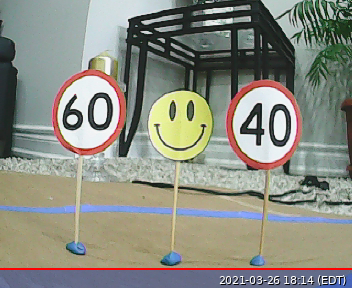Person: (147, 89, 213, 161)
Speed Limit 40: (226, 79, 301, 170)
Speed Limit 60: (50, 69, 126, 155)
